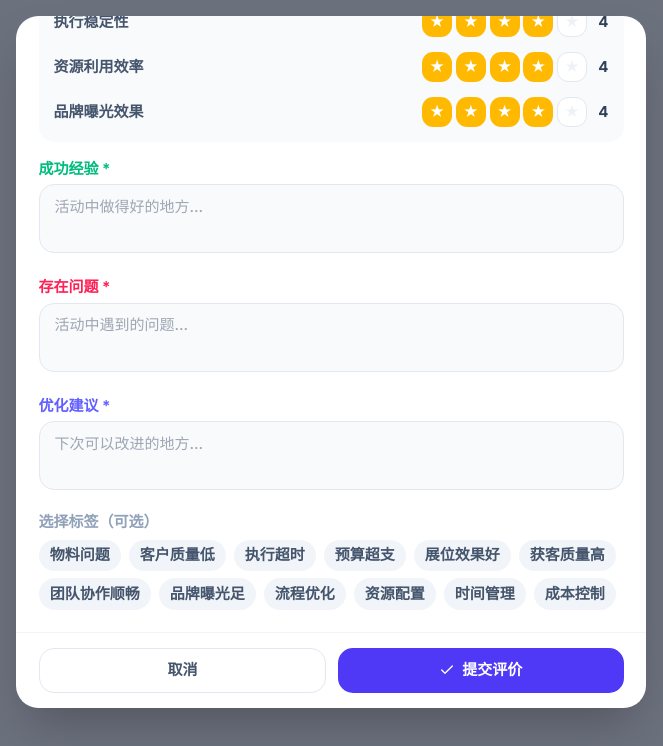
Scenario: 添加反馈弹窗交互测试 › 表单验证交互 › 提交空表单应显示验证错误
(page scrolled)
Click the button "提交评价": click(481, 670) [338, 648, 624, 693]
(page scrolled)
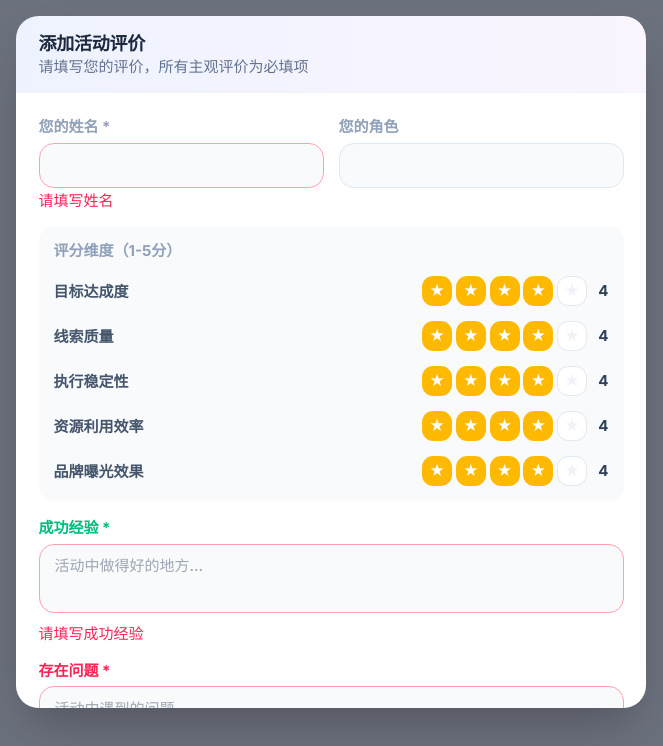
Expected: the text "请填写姓名" is shown, [38, 191, 114, 210]
